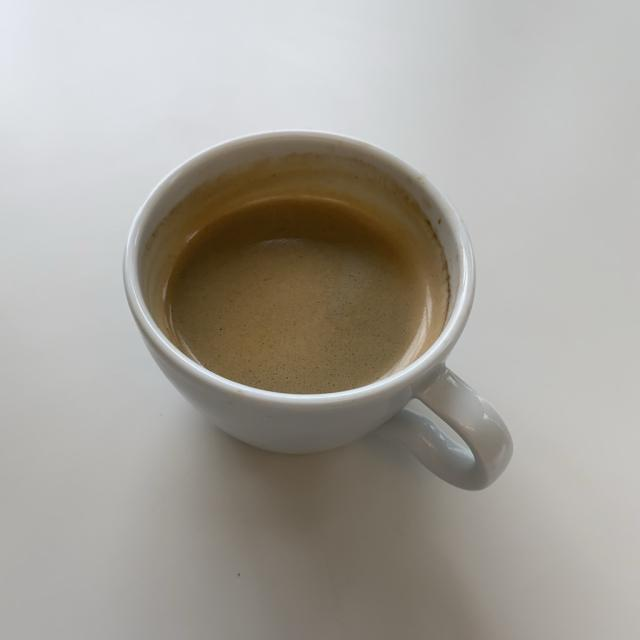coffee: (154, 177, 447, 389)
